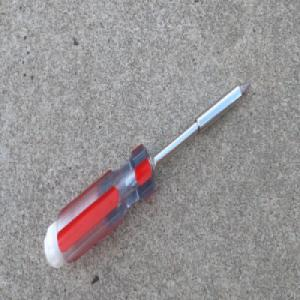Screwdriver: (41, 76, 252, 271)
